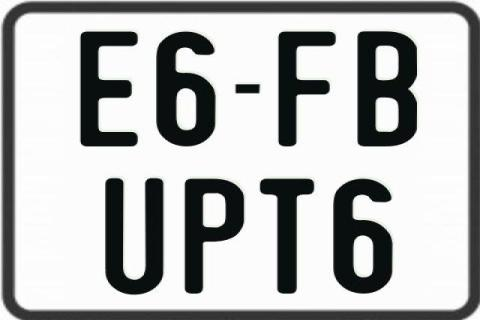0: (330, 178, 393, 298), (156, 31, 215, 146)
B: (358, 29, 417, 149)
E: (80, 29, 139, 149)
F: (275, 29, 339, 145)
P: (184, 178, 244, 296)
T: (260, 177, 315, 296)
U: (102, 179, 160, 299)
